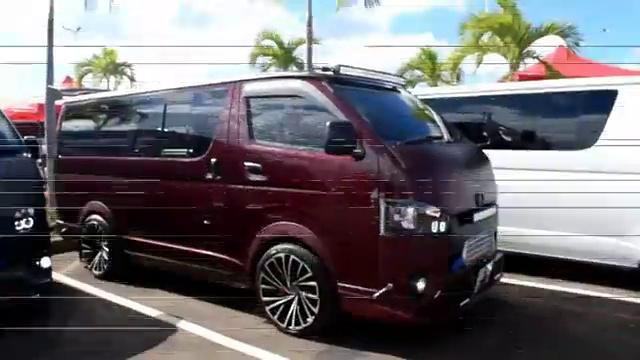van: (51, 69, 507, 326)
